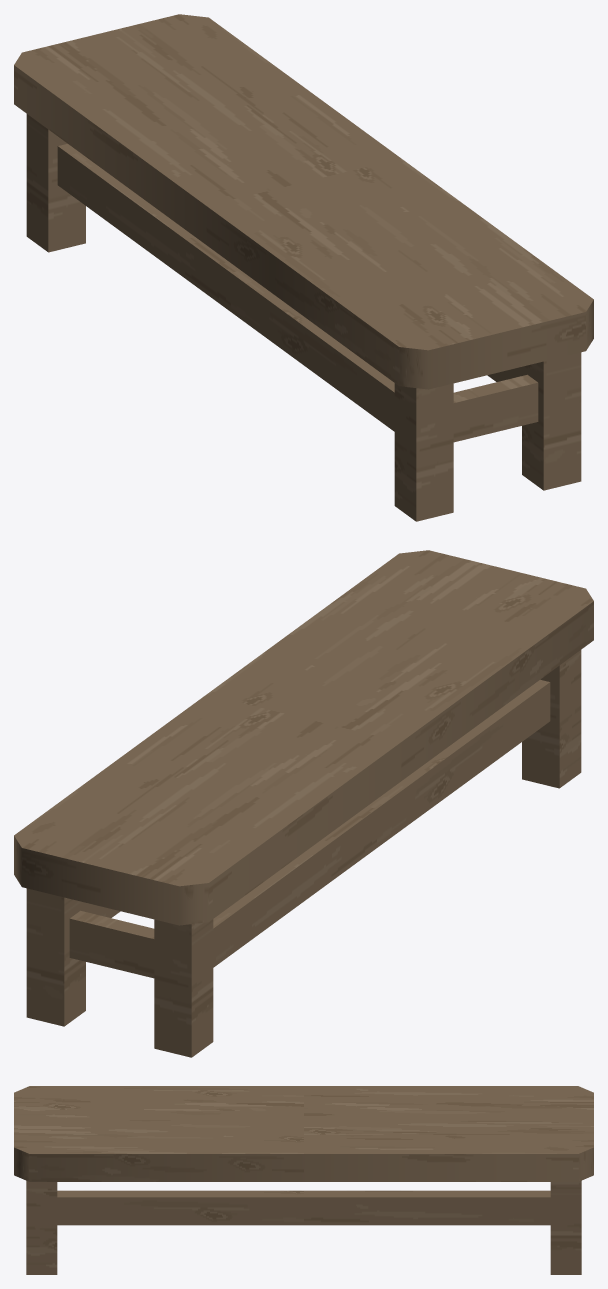
The model's file is stall-bench.gltf.
3 views of the same model, one above another, from view 1: azimuth 30°, elevation 25°; view 2: azimuth 150°, elevation 25°; view 3: azimuth 270°, elevation 25° (orthographic). The views are drawn at different scales.
Visible parts, largest first — view 1: stall-bench; view 2: stall-bench; view 3: stall-bench.
Part boxes in pixels (x1=…): stall-bench: x1=14, y1=14, x2=593, y2=521; stall-bench: x1=14, y1=550, x2=593, y2=1057; stall-bench: x1=14, y1=1086, x2=593, y2=1274.
Size of the model in its own units: 0.26 by 0.2255 by 0.94.
Materials: 1 (1 with a texture image).
